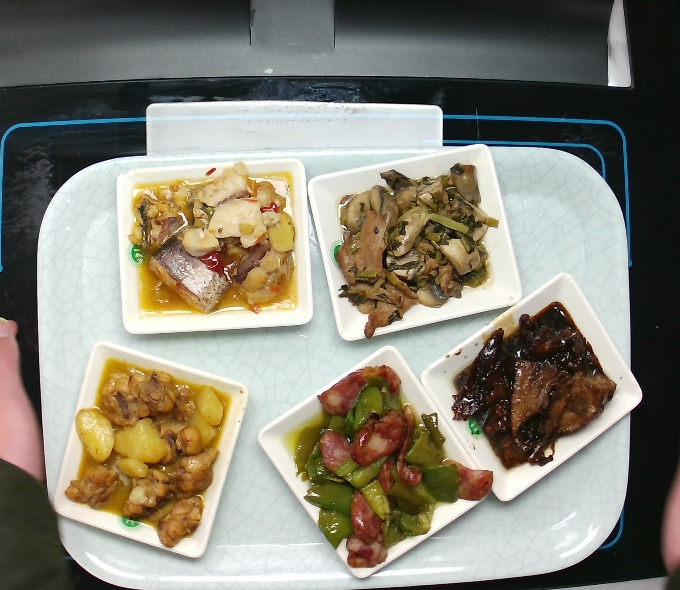wcq-JiangZhiYa: (449, 298, 618, 470)
wcq-MoGuRouPian: (332, 160, 500, 341)
wcq-QingJiaoXiangChang: (291, 362, 495, 572)
wcq-SuanCaiYu: (127, 159, 301, 317)
wcq-TuDouJiKuai: (63, 359, 231, 549)
